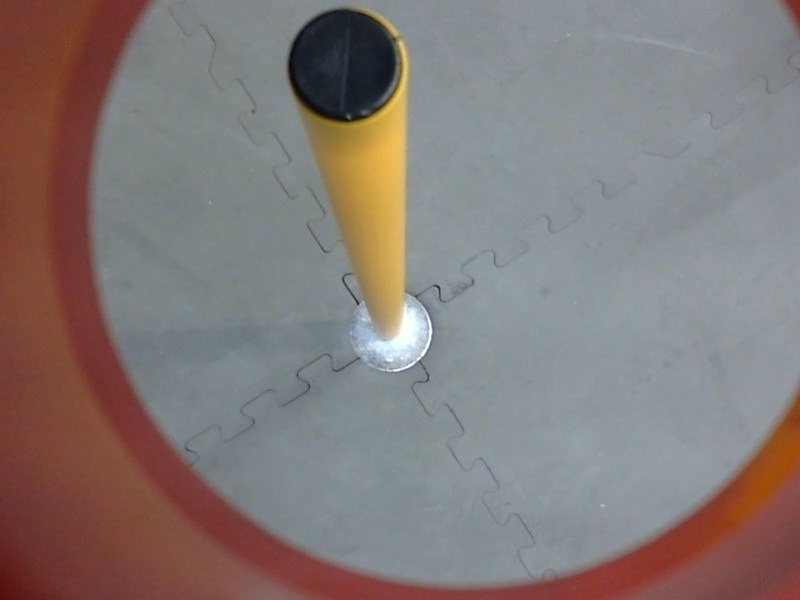tip: (272, 1, 417, 135)
